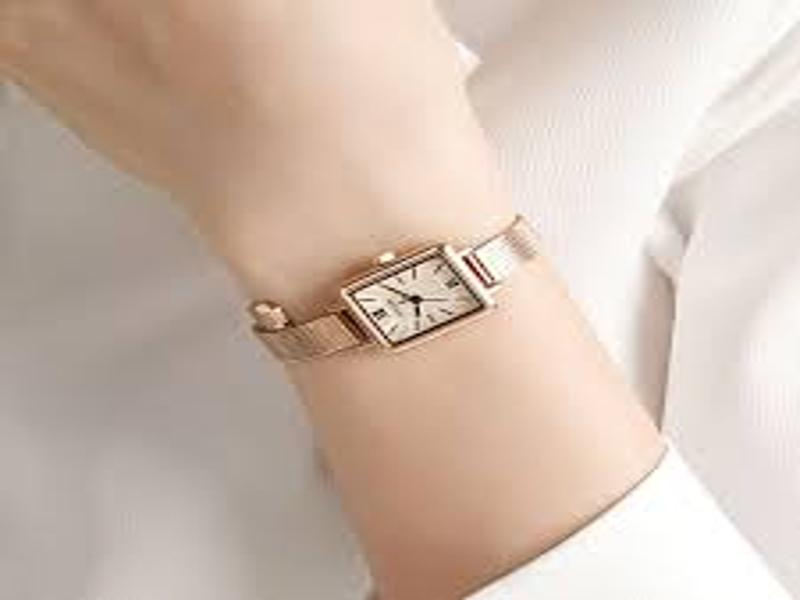watch: (244, 210, 548, 363)
